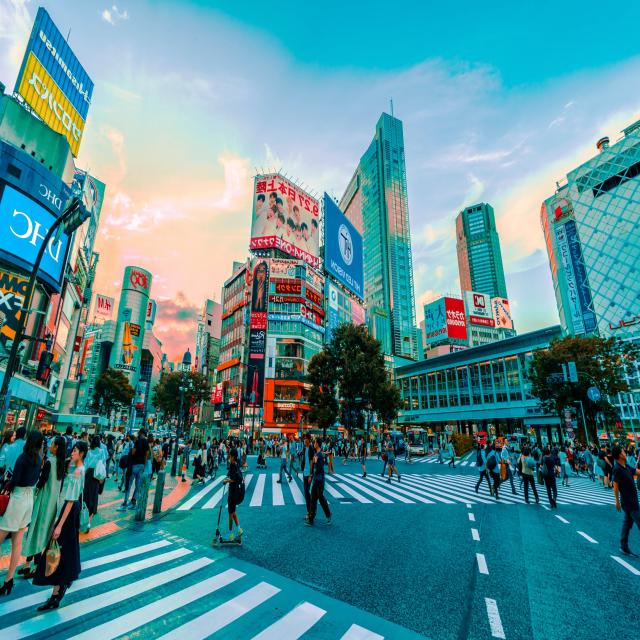adult: (39, 436, 86, 620), (20, 432, 66, 596), (612, 447, 640, 555), (222, 448, 248, 546), (118, 427, 148, 510), (306, 438, 333, 530), (84, 435, 106, 525), (302, 430, 314, 524), (540, 448, 557, 508), (499, 437, 516, 494), (522, 446, 538, 505), (476, 444, 492, 494), (487, 443, 501, 498), (386, 433, 401, 483), (597, 444, 612, 491), (277, 436, 292, 483), (0, 428, 17, 466), (558, 444, 571, 486), (194, 442, 207, 484), (181, 439, 193, 482), (288, 433, 298, 477), (206, 438, 218, 472), (360, 436, 367, 477)
